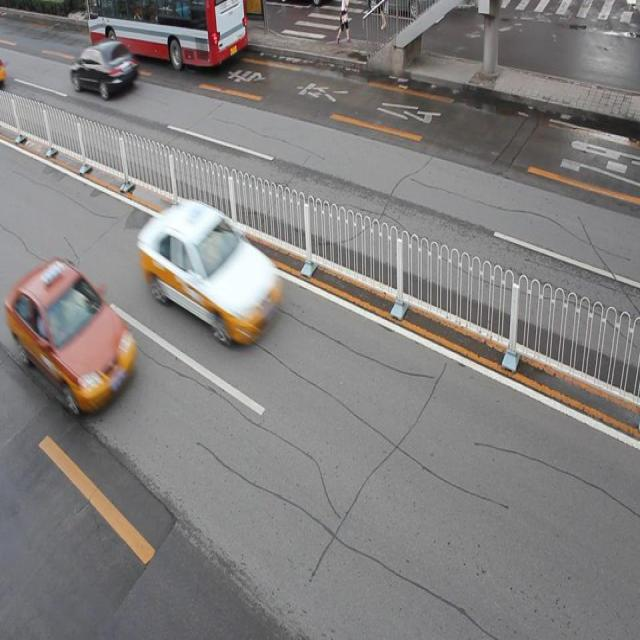car: (136, 196, 280, 342), (0, 258, 136, 407), (70, 38, 137, 99)
van: (88, 1, 247, 64)
